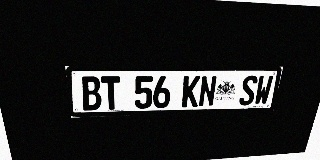5: (135, 76, 153, 109)
6: (153, 76, 171, 108)
B: (80, 76, 102, 110)
K: (181, 76, 200, 107)
N: (198, 76, 217, 107)
S: (238, 75, 258, 106)
T: (101, 76, 121, 110)
W: (253, 75, 274, 105)
